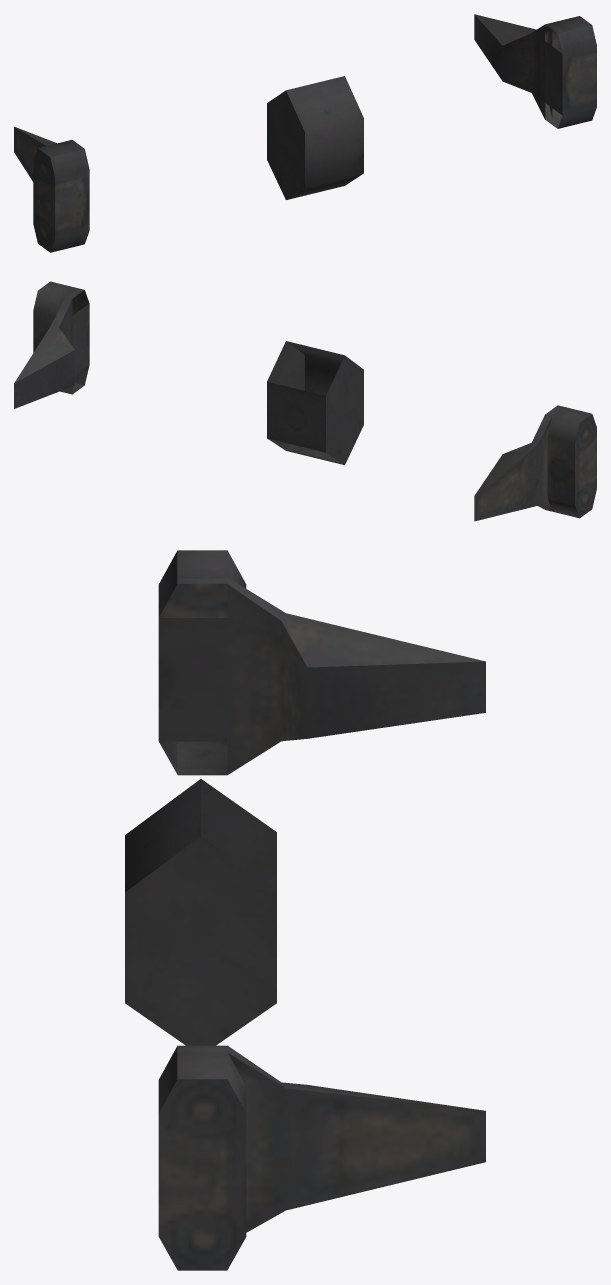
3 renders of one model, top to bottom at view 1: azimuth 30°, elevation 25°; view 2: azimuth 150°, elevation 25°; view 3: azimuth 270°, elevation 25°, orthographic. The views are drawn at different scales.
Parts seen in each view (by area): view 1: set_0_group_0; view 2: set_0_group_0; view 3: set_0_group_0.
Boxes of the visible parts, x1,y1,x2,y2 form: set_0_group_0: (14,14,596,252); set_0_group_0: (14,281,596,521); set_0_group_0: (125,550,485,1270).
Bounding box in the file's own units: 0.6544 × 0.1269 × 0.1889.
Materials: 1 (1 with a texture image).
